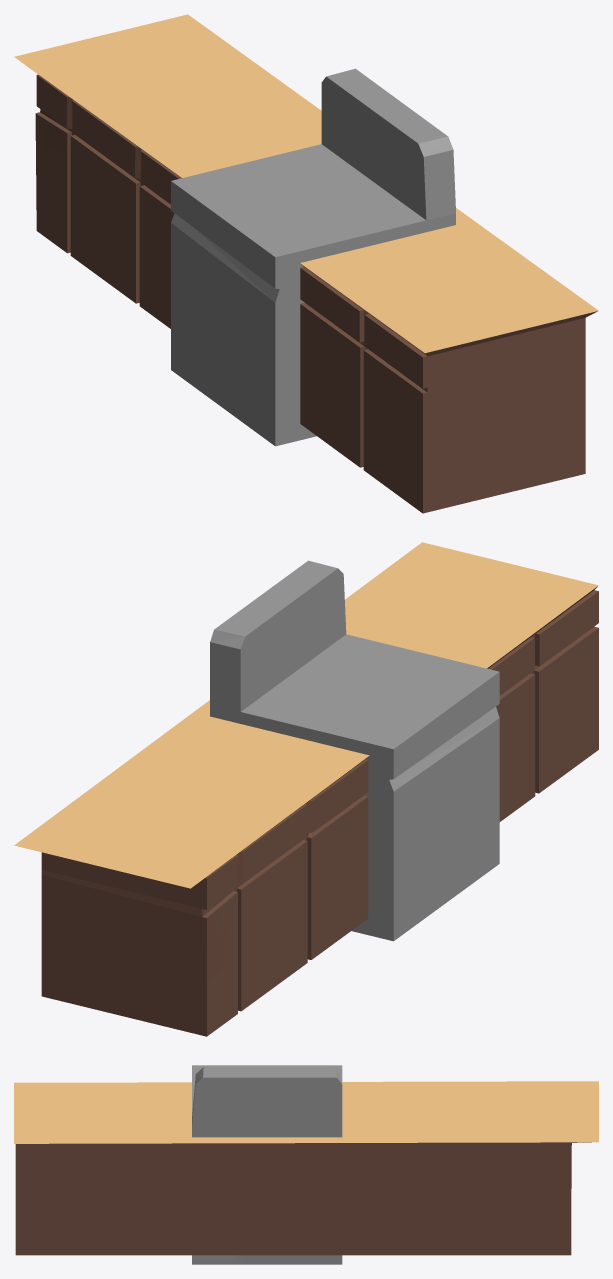
Rendered from main shelf with stove ORIGIN.fbx.
The picture shows the model from 3 angles, top to bottom: view 1: azimuth 30°, elevation 25°; view 2: azimuth 150°, elevation 25°; view 3: azimuth 270°, elevation 25°; orthographic projection. The views are drawn at different scales.
Visible parts, largest first — view 1: group1193142137.001, group1193142137.027, group1193142137.003, group1193142137.002, group1193142137.004, group1193142137.006, group1193142137.055, group1193142137.045, group1193142137.020, group1193142137.035, group1193142137.054, group1193142137.033 (+41 smaller); view 2: group1193142137.027, group1193142137.024, group1193142137.020, group1193142137.045, group1193142137.006, group1193142137.001, group1193142137.035, group1193142137.023, group1193142137.022, group1193142137.044, group1193142137.054, group1193142137.033 (+43 smaller); view 3: group1193142137.027, group1193142137.006, group1193142137.001, group1193142137.035, group1193142137.020, group1193142137.021, group1193142137.033, group1193142137.019, group1193142137.060, group1193142137.043, group1193142137.045, group1193142137.012 (+45 smaller).
Boxes of the visible parts, <box> form: group1193142137.001: <box>382,281,598,377</box>; group1193142137.027: <box>72,58,295,162</box>; group1193142137.003: <box>381,383,585,471</box>; group1193142137.002: <box>395,337,585,426</box>; group1193142137.004: <box>376,432,585,513</box>; group1193142137.006: <box>344,252,557,358</box>; group1193142137.055: <box>245,200,477,288</box>; group1193142137.045: <box>171,144,360,246</box>; group1193142137.020: <box>14,14,224,114</box>; group1193142137.035: <box>139,108,321,208</box>; group1193142137.054: <box>210,173,398,252</box>; group1193142137.033: <box>108,92,317,200</box>; group1193142137.027: <box>74,766,297,883</box>; group1193142137.024: <box>41,946,251,1036</box>; group1193142137.020: <box>14,818,226,909</box>; group1193142137.045: <box>190,682,435,792</box>; group1193142137.006: <box>345,572,559,679</box>; group1193142137.001: <box>382,542,598,637</box>; group1193142137.035: <box>144,724,353,839</box>; group1193142137.023: <box>41,908,226,986</box>; group1193142137.022: <box>41,870,218,948</box>; group1193142137.044: <box>178,704,393,817</box>; group1193142137.054: <box>281,654,471,734</box>; group1193142137.033: <box>121,749,319,877</box>; group1193142137.027: <box>445,1081,513,1165</box>; group1193142137.006: <box>71,1082,128,1165</box>; group1193142137.001: <box>14,1082,73,1157</box>; group1193142137.035: <box>364,1081,420,1168</box>; group1193142137.020: <box>546,1081,598,1165</box>; group1193142137.021: <box>499,1081,553,1165</box>; group1193142137.033: <box>413,1081,467,1187</box>; group1193142137.019: <box>153,1082,186,1165</box>; group1193142137.060: <box>287,1169,357,1224</box>; group1193142137.043: <box>179,1227,257,1264</box>; group1193142137.045: <box>282,1065,346,1165</box>; group1193142137.012: <box>75,1182,155,1230</box>.
Bounding box in the file's own units: 108 × 134 × 380.
